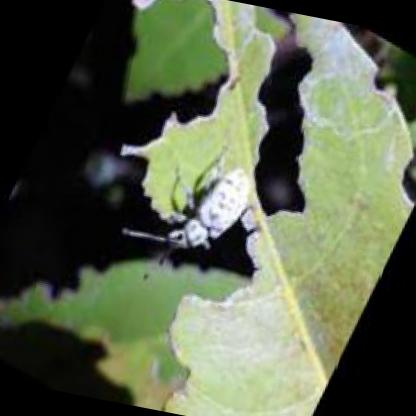ash weevil: (125, 138, 250, 248)
